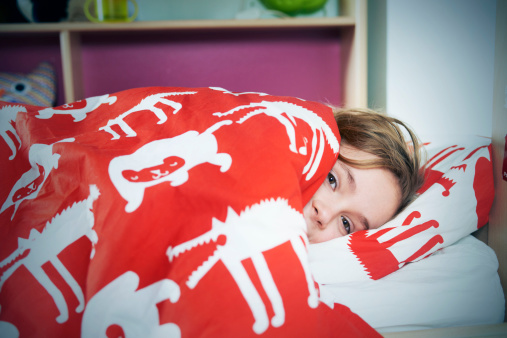deitado: (188, 92, 483, 336)
